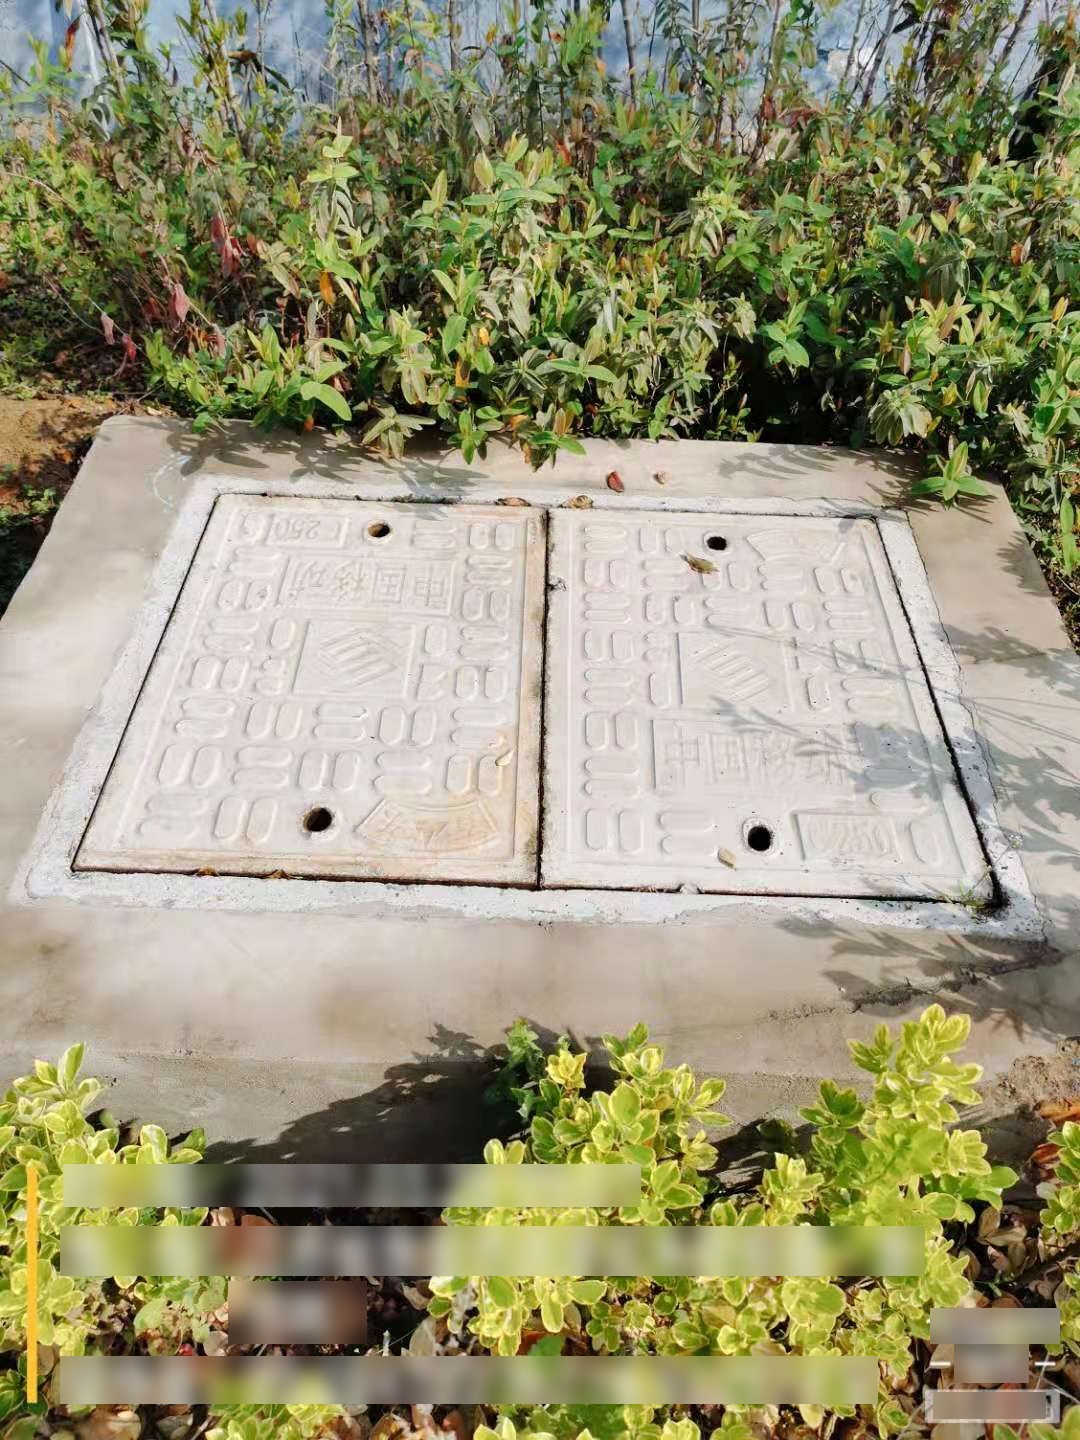good: (10, 471, 1041, 941)
